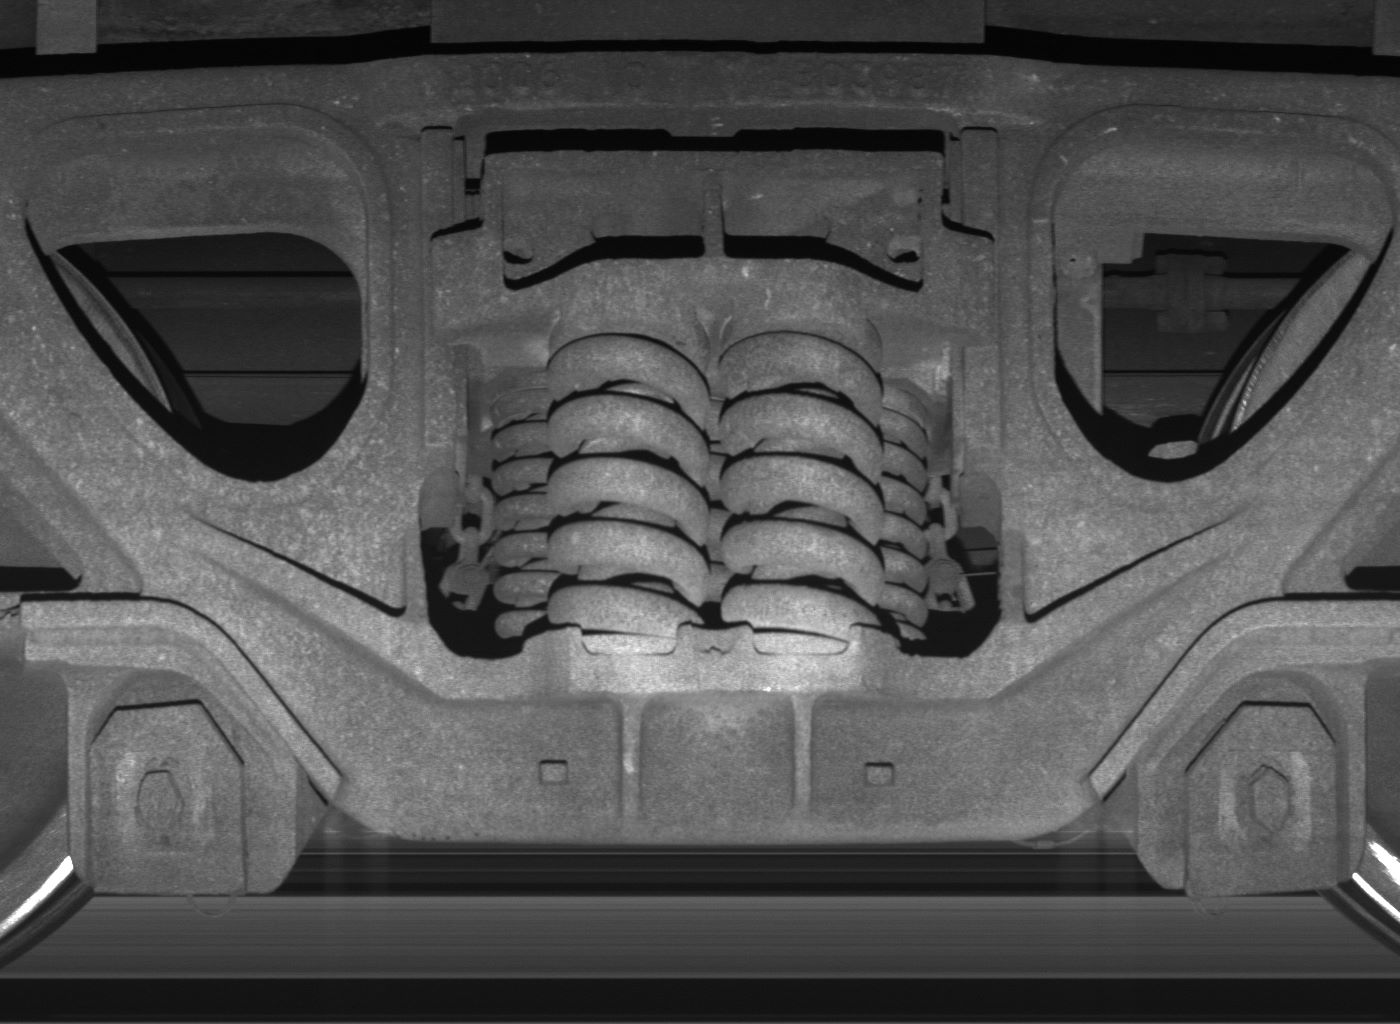normal: (68, 666, 300, 899), (1137, 667, 1368, 895)
